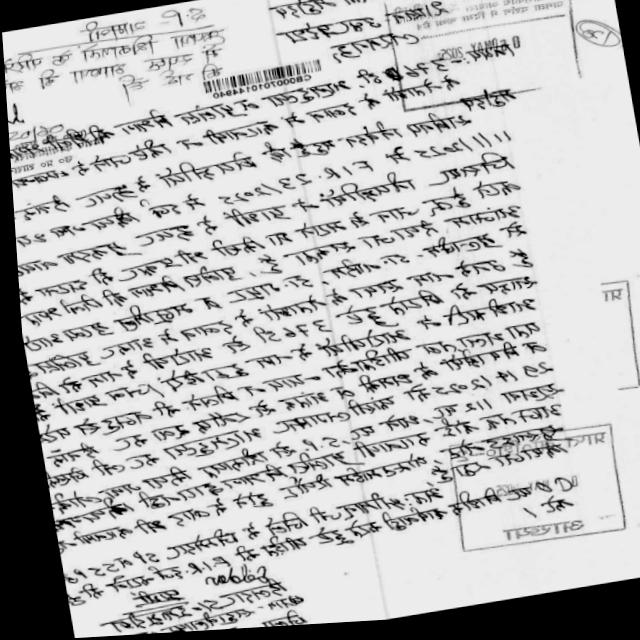antritgovtstamp: (436, 422, 632, 561)
barcode: (197, 57, 325, 103)
jantadarsan: (376, 0, 589, 116)
